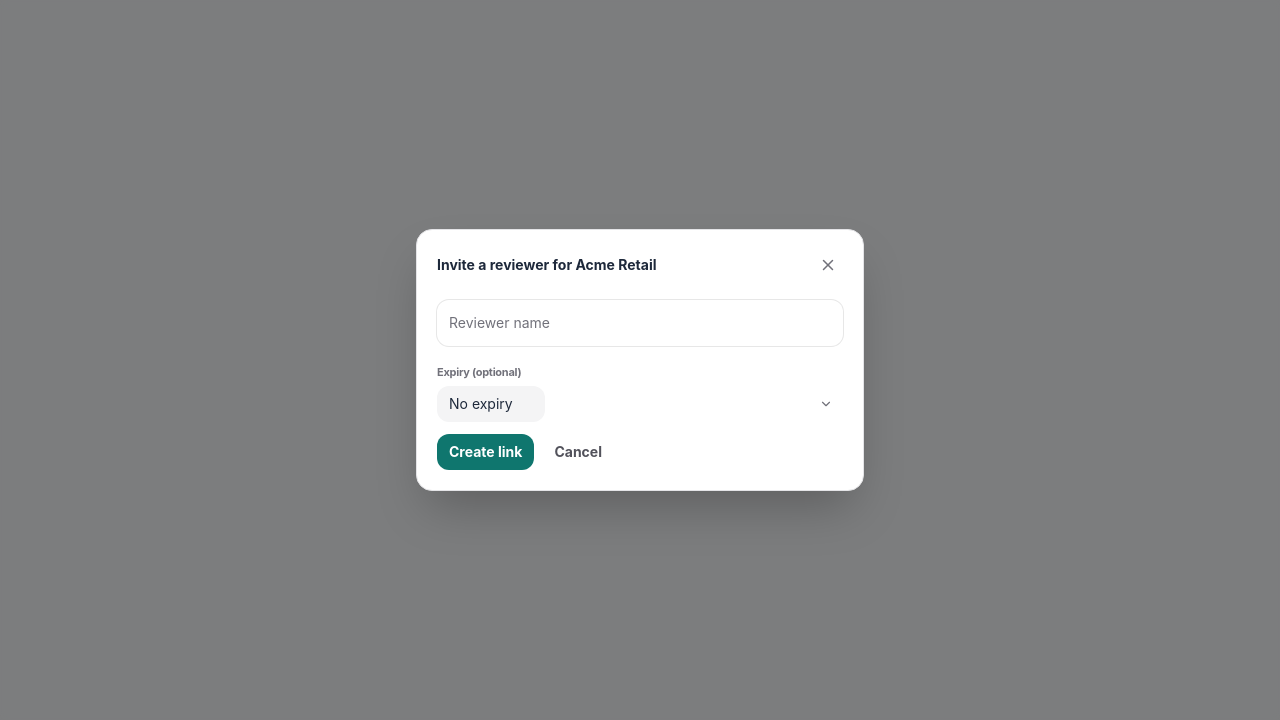
Test case: InviteReviewerDialog (V5) › preserves the typed name and expiry on a failed (duplicate) create
Type "Martina" into the field labelled "Reviewer name" at (640,323), box [437,300,843,346]
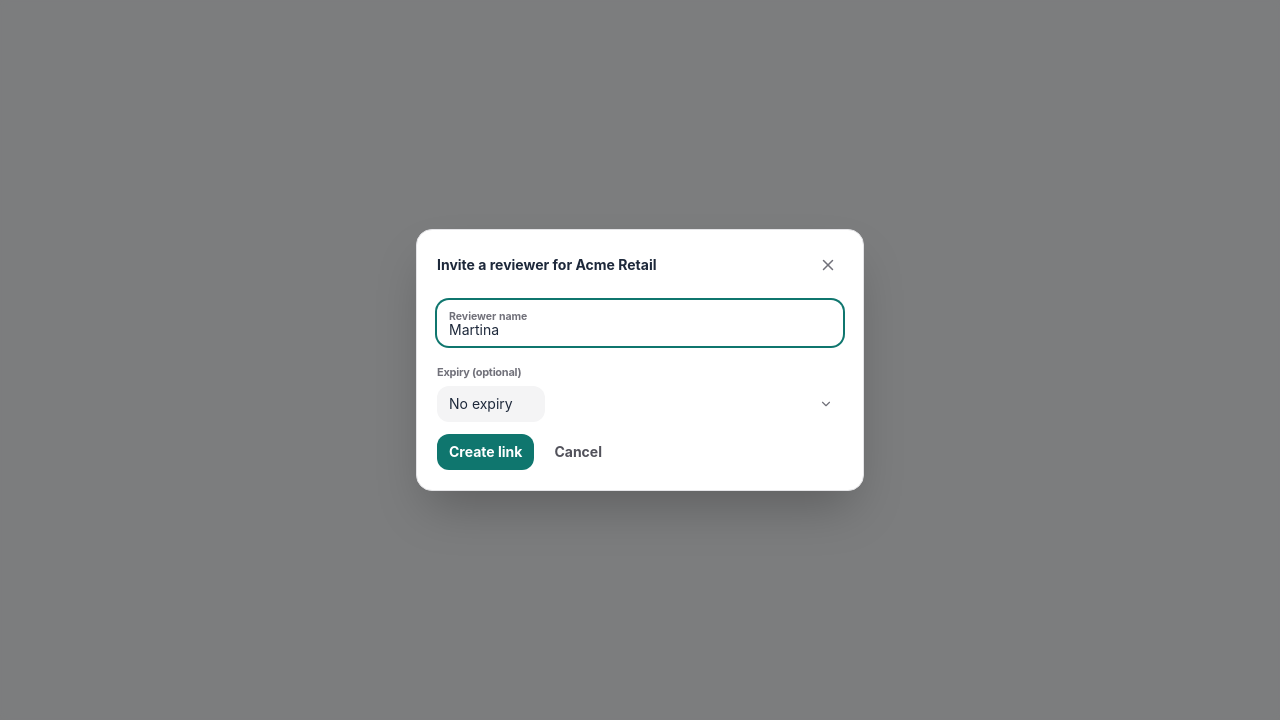
Select "7 days" in the dropdown at (491,404), box [437,386,545,422]
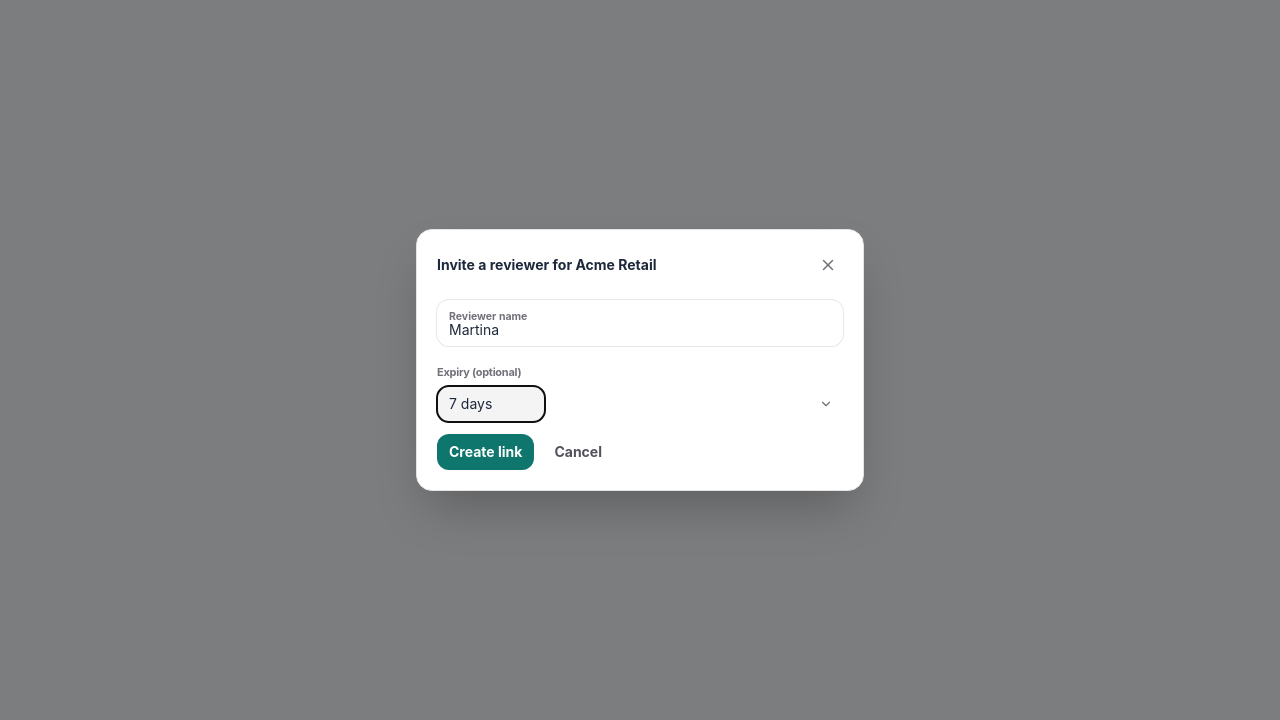
Click the button "Create link" at (486,452), box [437,434,534,470]
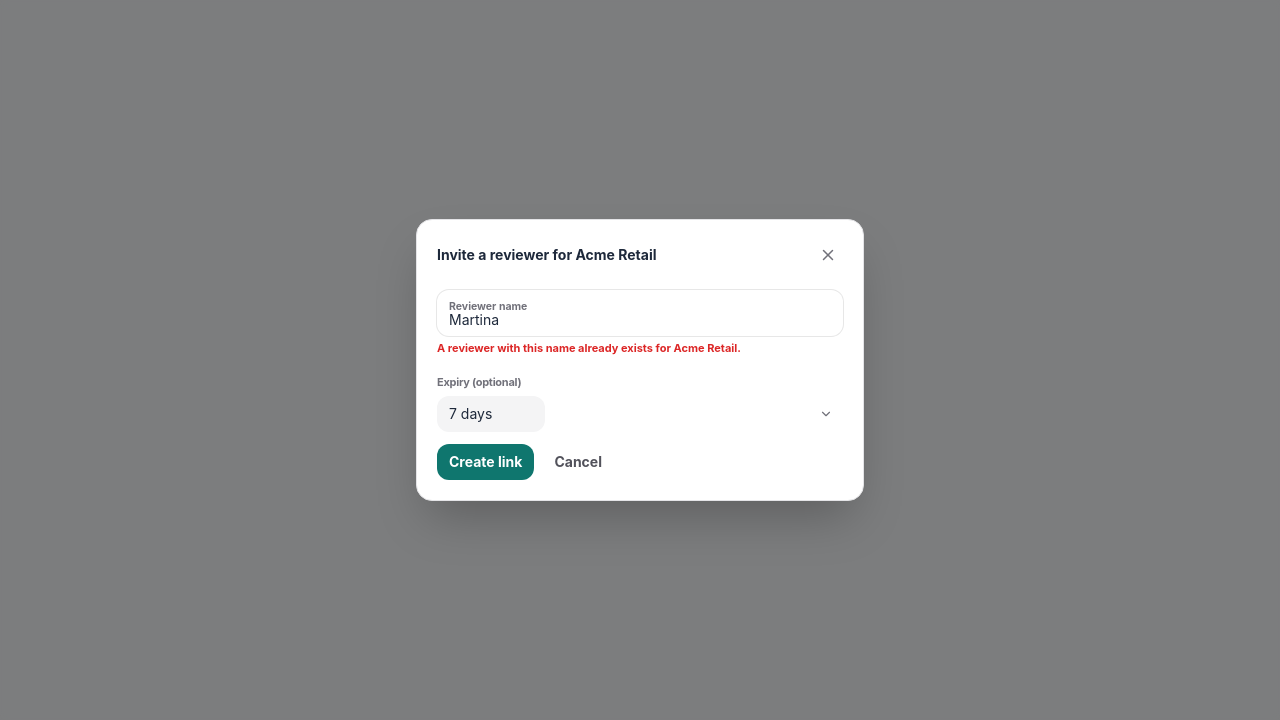
Expected: the button "Create link" is enabled, [437,444,534,480]
Result: the text "A reviewer with this name already exists for Acme Retail." is shown at [437,341,741,355]
